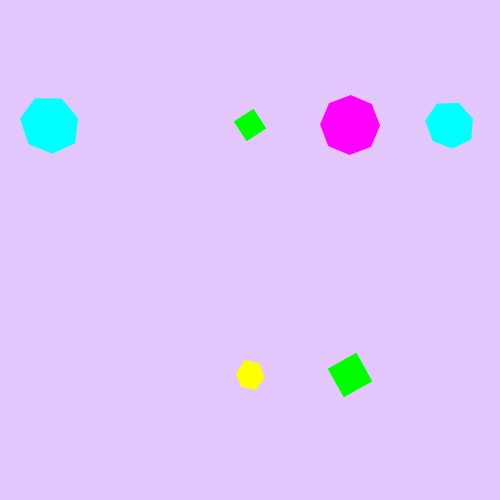heptagon: (18, 94, 83, 157), (422, 99, 478, 152)
hexagon: (231, 359, 270, 392)
octagon: (317, 92, 384, 159)
quadrilateral: (324, 349, 377, 402), (230, 105, 270, 145)
